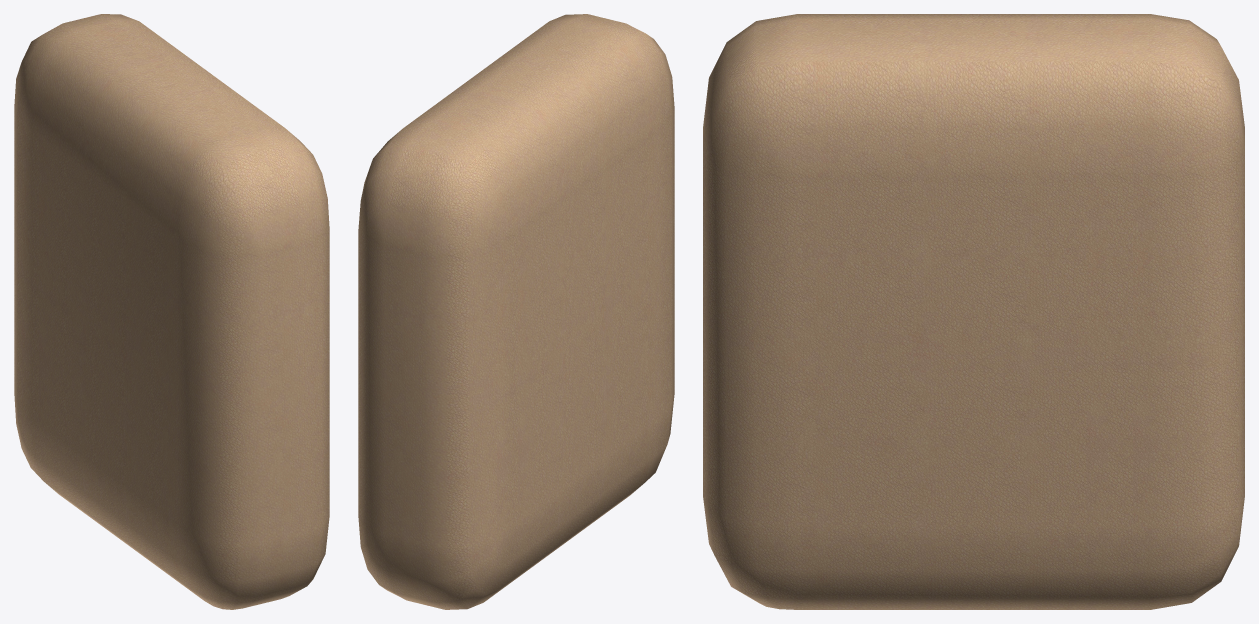
File: SM_咨询室_沙发组件_002.fbx
3 renders of one model, left to right at view 1: azimuth 30°, elevation 25°; view 2: azimuth 150°, elevation 25°; view 3: azimuth 270°, elevation 25°, orthographic. The views are drawn at different scales.
Visible parts, largest first — view 1: SM_咨询室_沙发组件_002; view 2: SM_咨询室_沙发组件_002; view 3: SM_咨询室_沙发组件_002.
Part boxes in pixels (left/top/right/bottom): SM_咨询室_沙发组件_002: left=14, top=14, right=329, bottom=609; SM_咨询室_沙发组件_002: left=358, top=14, right=674, bottom=609; SM_咨询室_沙发组件_002: left=703, top=14, right=1244, bottom=609.
Bounding box in the file's own units: 299 × 984 × 860.
